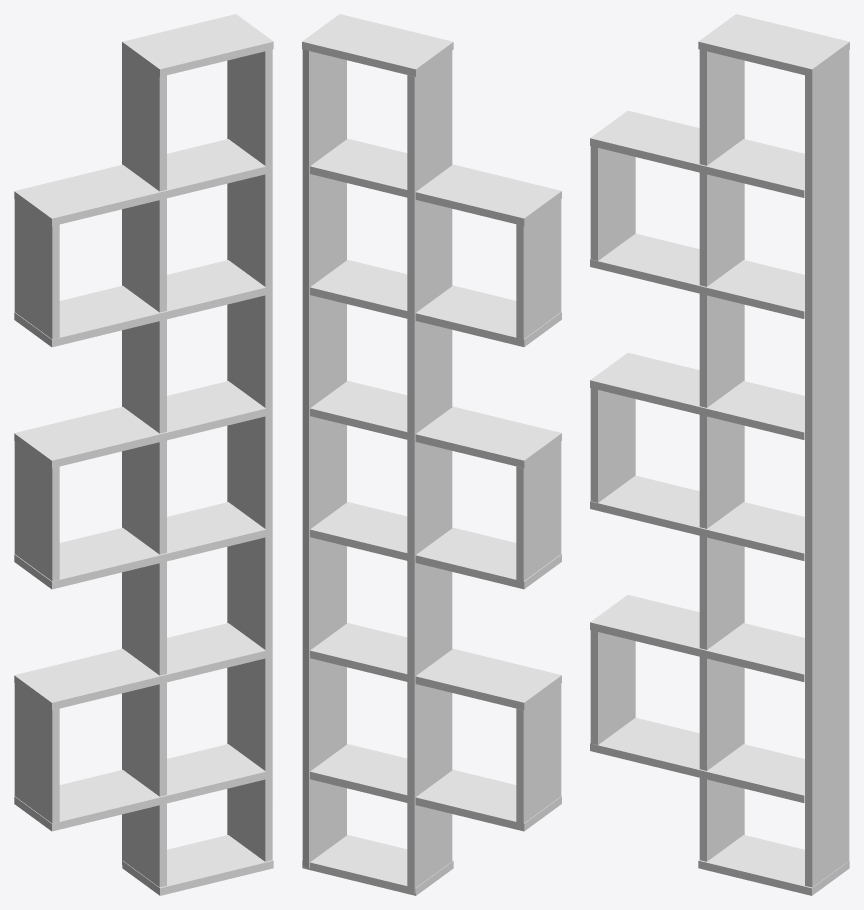
File: shelf_059.glb
3 views of the same model, side by side, from view 1: azimuth 30°, elevation 25°; view 2: azimuth 150°, elevation 25°; view 3: azimuth 330°, elevation 25° (orthographic).
Parts seen in each view (by area): view 1: shelf_059; view 2: shelf_059; view 3: shelf_059.
Boxes of the visible parts, bbox=[...] form: shelf_059: bbox=[14, 14, 273, 895]; shelf_059: bbox=[302, 14, 561, 895]; shelf_059: bbox=[590, 14, 849, 895].
Bounding box in the file's own units: 0.8285 × 2.95 × 0.2496.
1 material, 1 textured.
